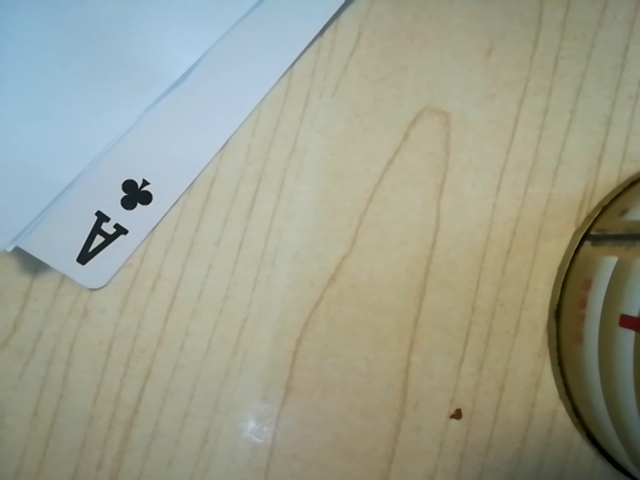mh a: (57, 168, 167, 274)
